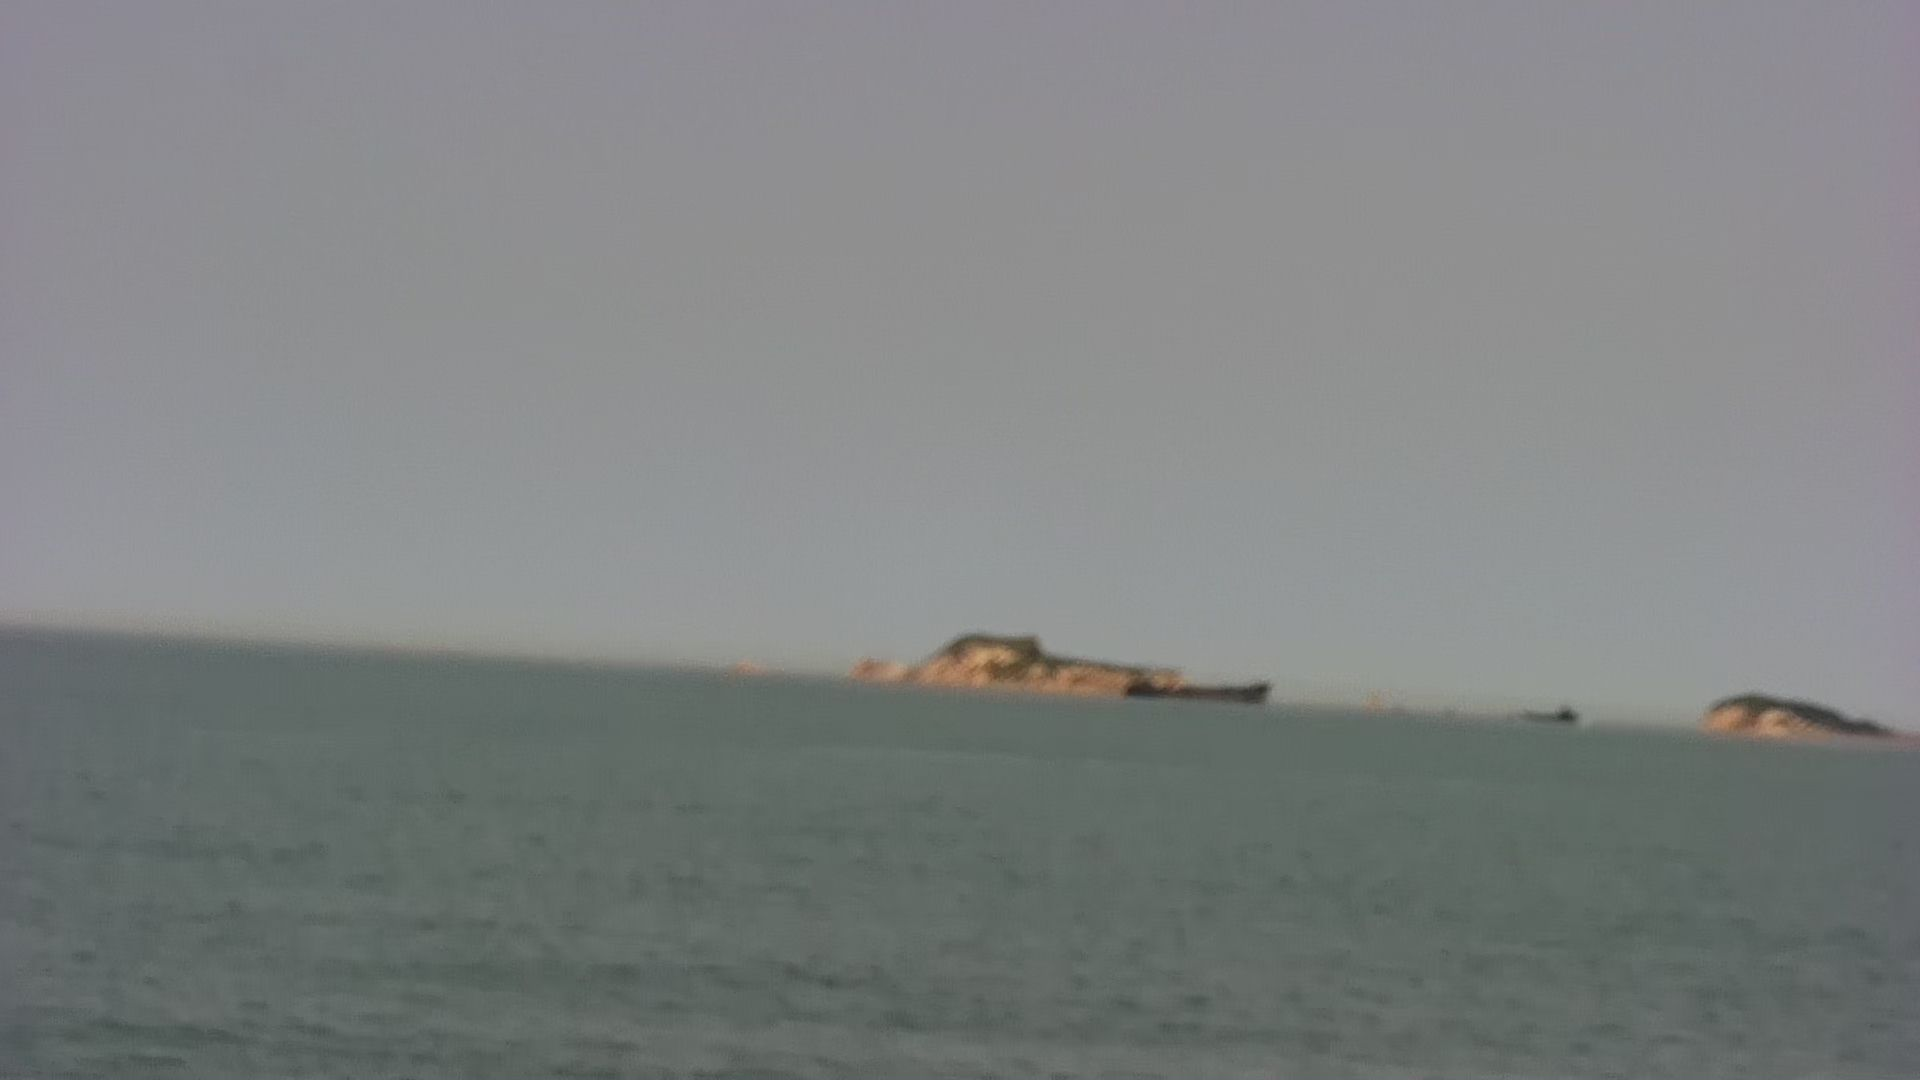rock: (843, 616, 1196, 694)
